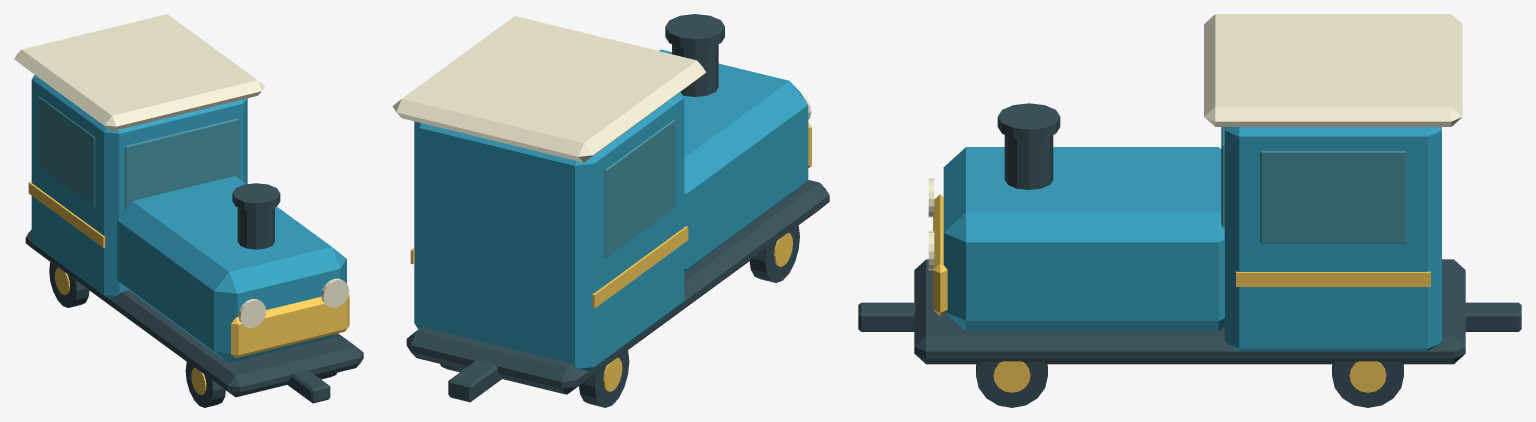
The model's file is train-engine.glb.
The picture shows the model from 3 angles, left to right: view 1: azimuth 30°, elevation 25°; view 2: azimuth 150°, elevation 25°; view 3: azimuth 270°, elevation 25°; orthographic projection. The views are drawn at different scales.
Parts seen in each view (by area): view 1: TrainEngine; view 2: TrainEngine; view 3: TrainEngine.
Boxes of the visible parts, <box> form: TrainEngine: <box>14,14,363,407</box>; TrainEngine: <box>392,14,829,407</box>; TrainEngine: <box>858,14,1521,407</box>.
Bounding box in the file's own units: 2.48 × 3.47 × 6.8.
